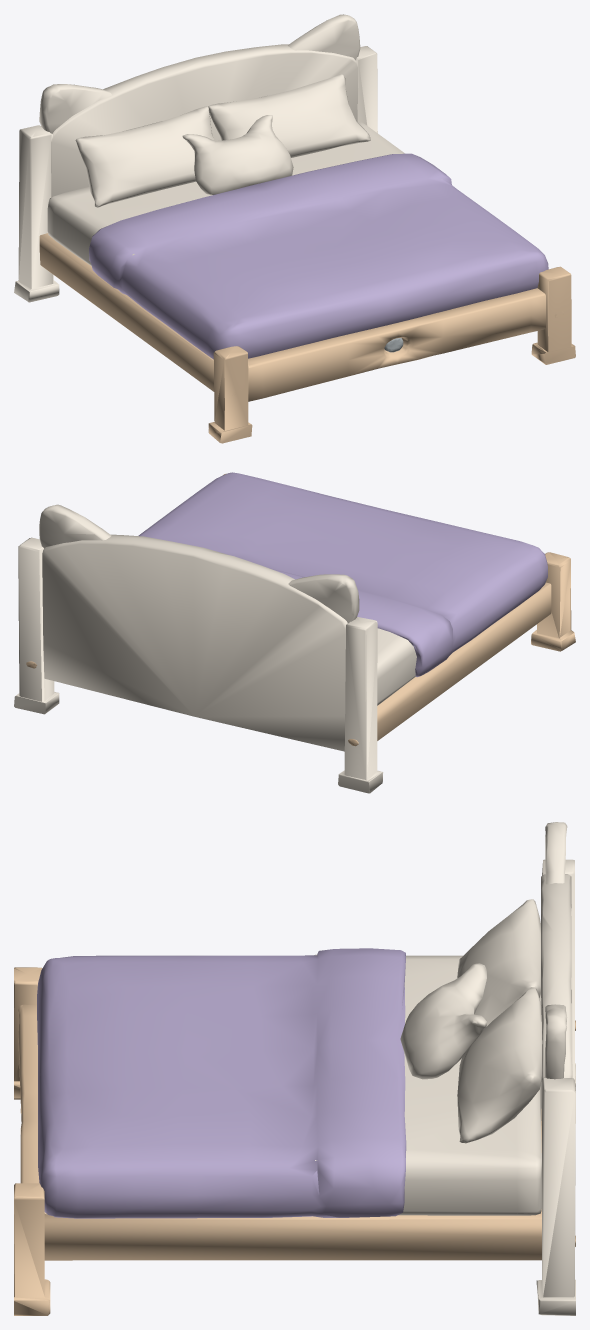
File: bedroom_double_bed.glb
3 renders of one model, top to bottom at view 1: azimuth 30°, elevation 25°; view 2: azimuth 150°, elevation 25°; view 3: azimuth 270°, elevation 25°, orthographic. The views are drawn at different scales.
Bounding box in the file's own units: 3.65 × 2.02 × 3.65.
